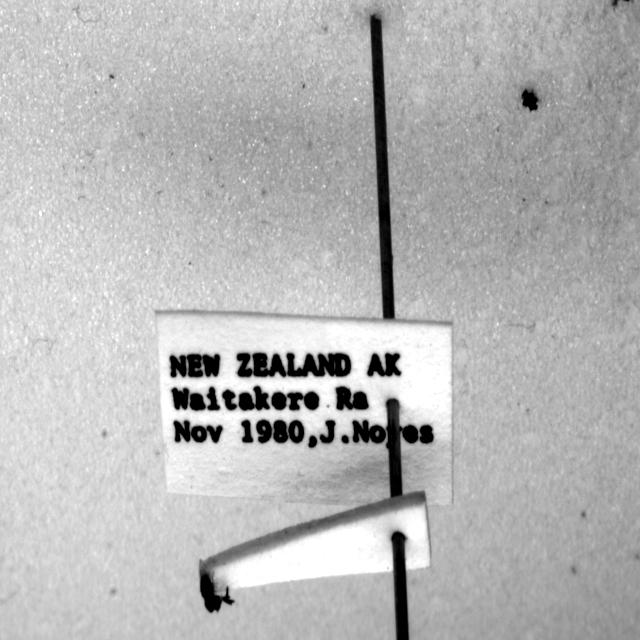typed_label: (156, 311, 452, 504)
